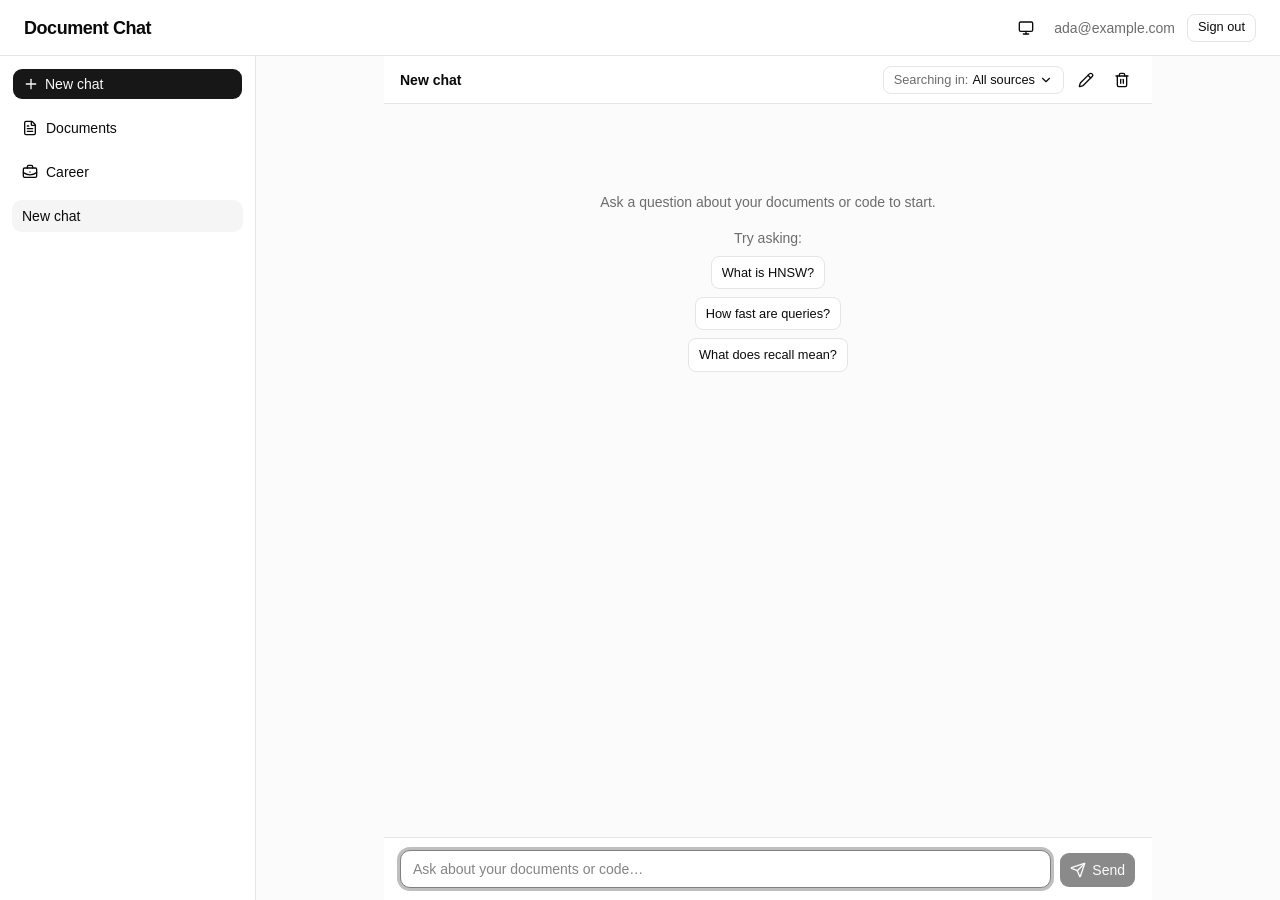
Test: suggested questions in an empty chat › asks the question when one is clicked, and takes the suggestions away
Click the button "How fast are queries?".
click(768, 314)  # box top-left (695, 297), bottom-right (841, 330)
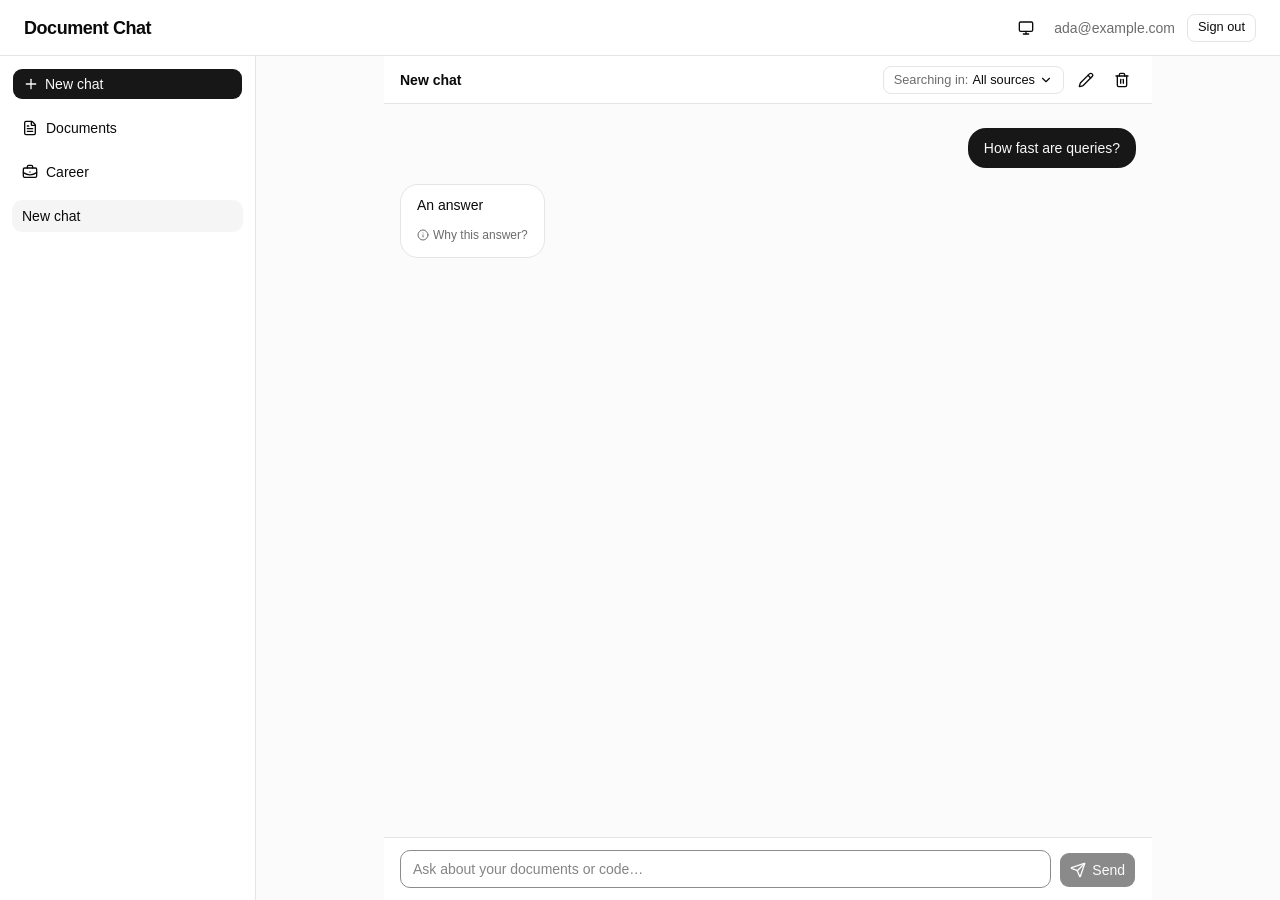
Expected: the text "An answer" is shown, top-left (417, 197), bottom-right (483, 213)
